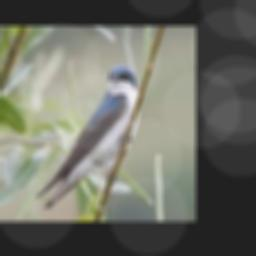Swallow: (36, 65, 140, 209)
